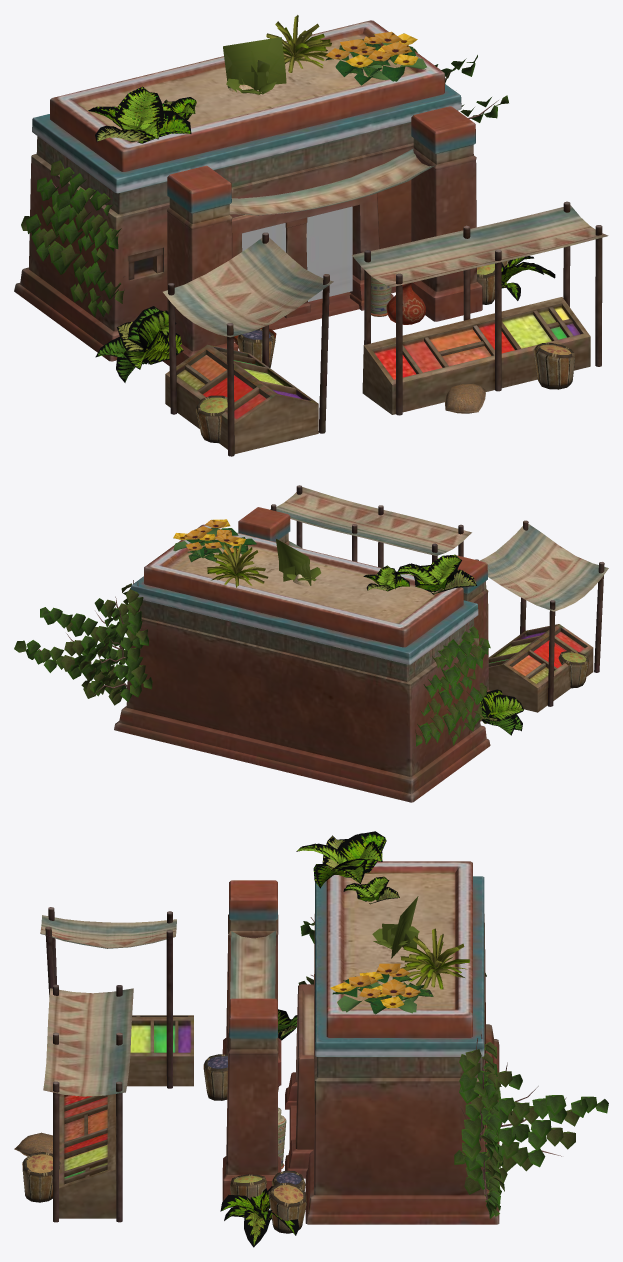
File: 80-market.glb
3 renders of one model, top to bottom at view 1: azimuth 30°, elevation 25°; view 2: azimuth 150°, elevation 25°; view 3: azimuth 270°, elevation 25°, orthographic. The views are drawn at different scales.
Size of the model in its own units: 10.66 by 4.72 by 10.76.
Materials: 15 (15 with a texture image).
